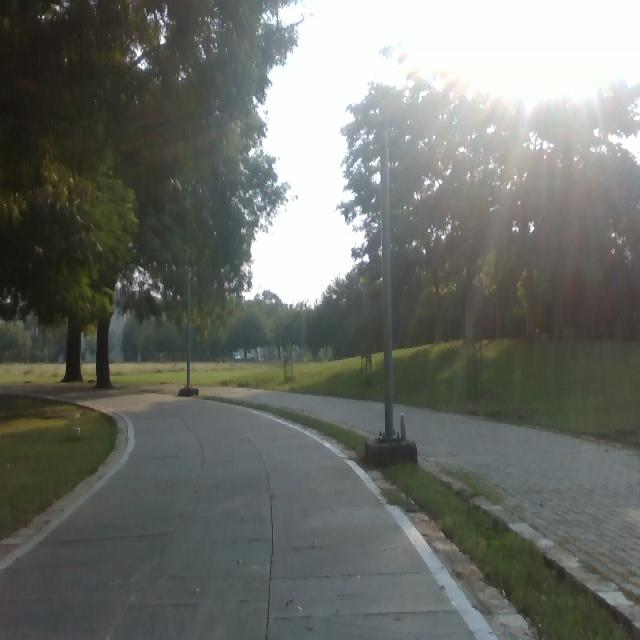lane: (6, 388, 470, 634)
